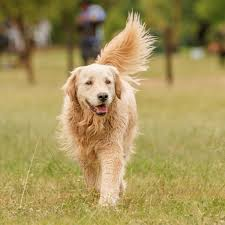Bulldog: (31, 4, 180, 213)
